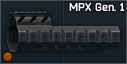MPX GEN1 handguard: (0, 0, 127, 64)
